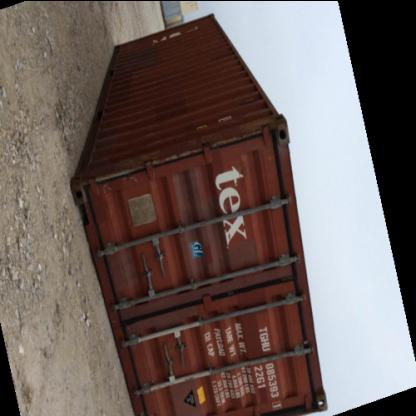Damage: (139, 152, 208, 170), (199, 132, 268, 148), (100, 168, 152, 186)
